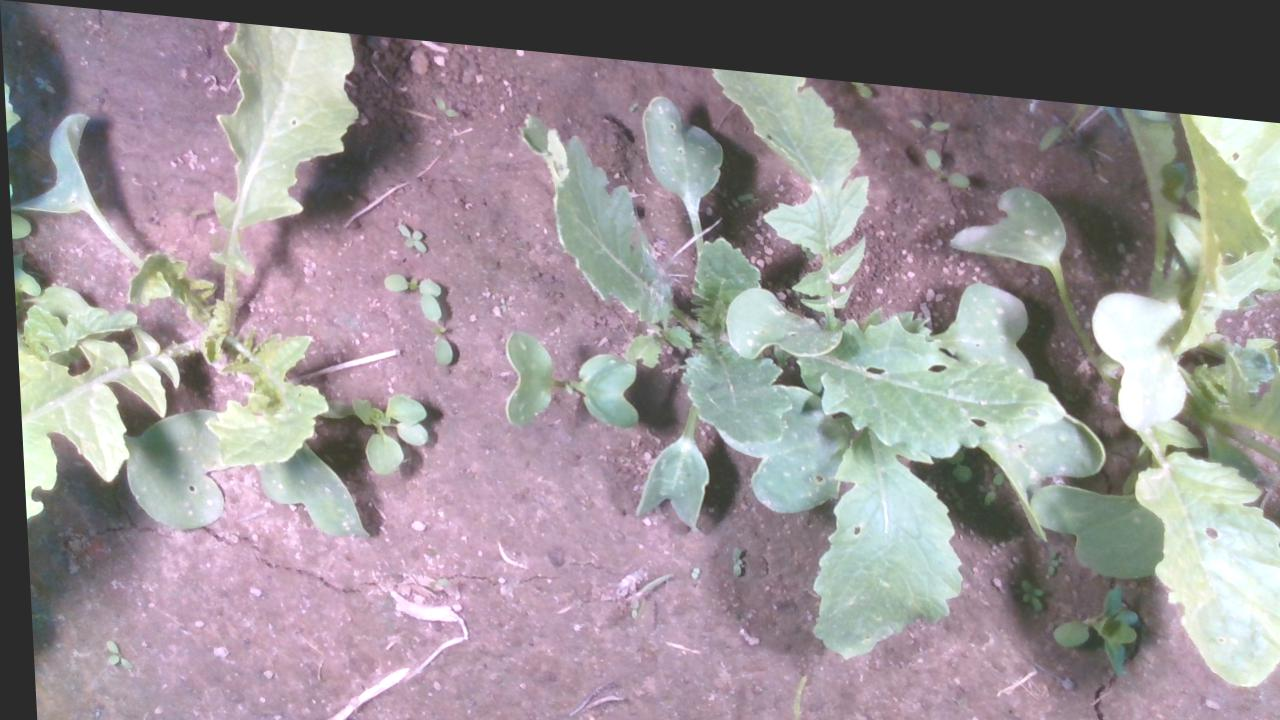weed: (919, 126, 970, 170), (388, 210, 430, 246)
